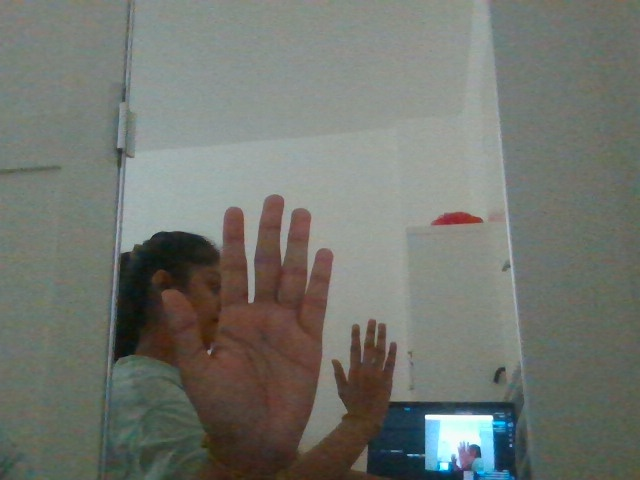open_hand: (159, 166, 337, 458)
